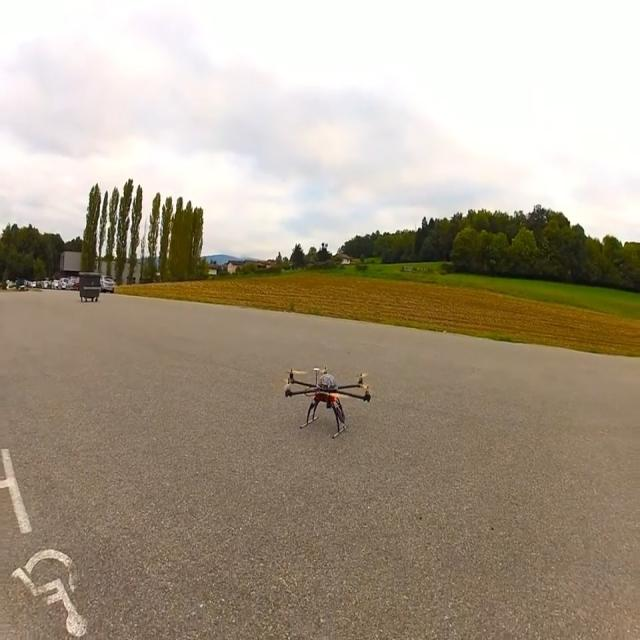drone: (283, 364, 371, 438)
